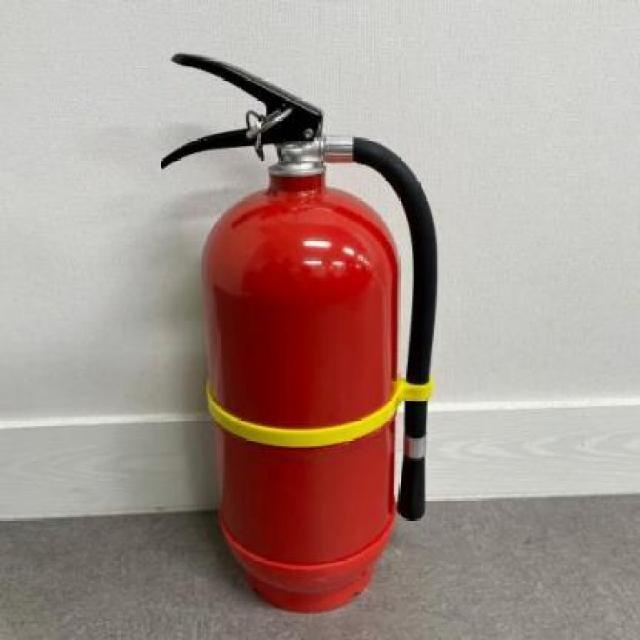fire extinguisher: (161, 52, 439, 614)
